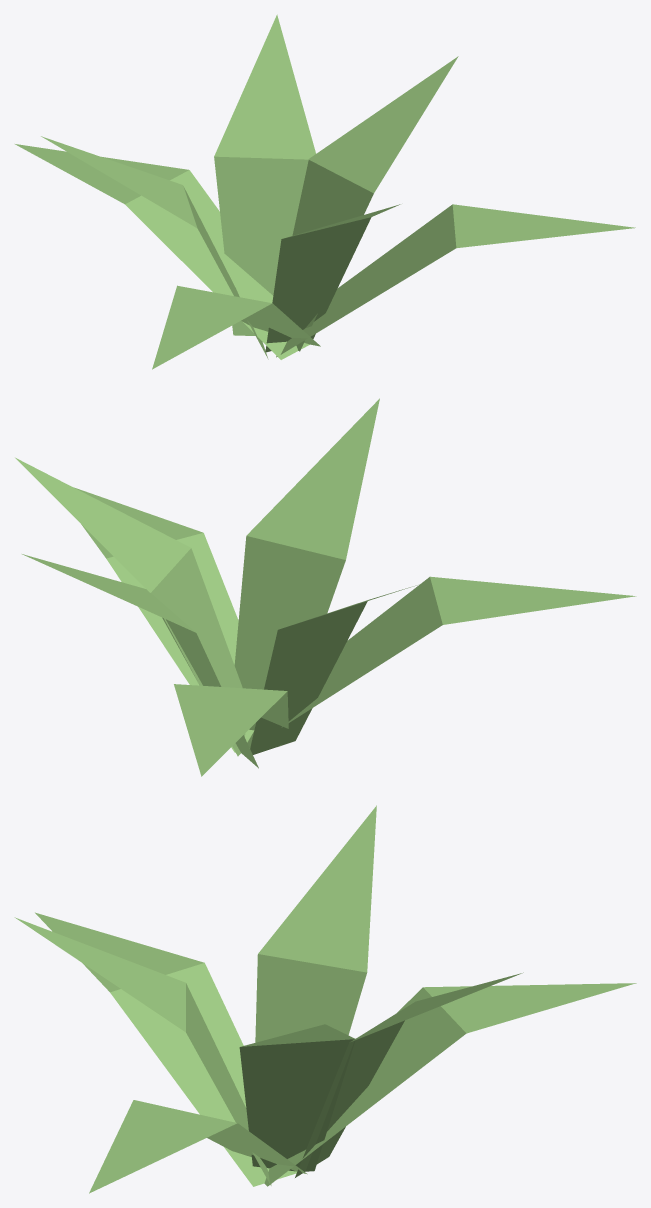
Rendered from grass-clumb.glb.
3 views of the same model, one above another, from view 1: azimuth 30°, elevation 25°; view 2: azimuth 150°, elevation 25°; view 3: azimuth 270°, elevation 25° (orthographic). The views are drawn at different scales.
Parts seen in each view (by area): view 1: grass_clumb; view 2: grass_clumb; view 3: grass_clumb.
Part boxes in pixels (x1=…): grass_clumb: x1=15, y1=14, x2=635, y2=369; grass_clumb: x1=15, y1=398, x2=636, y2=776; grass_clumb: x1=14, y1=805, x2=636, y2=1193.
Size of the model in its own units: 90.02 by 38.24 by 84.23.
